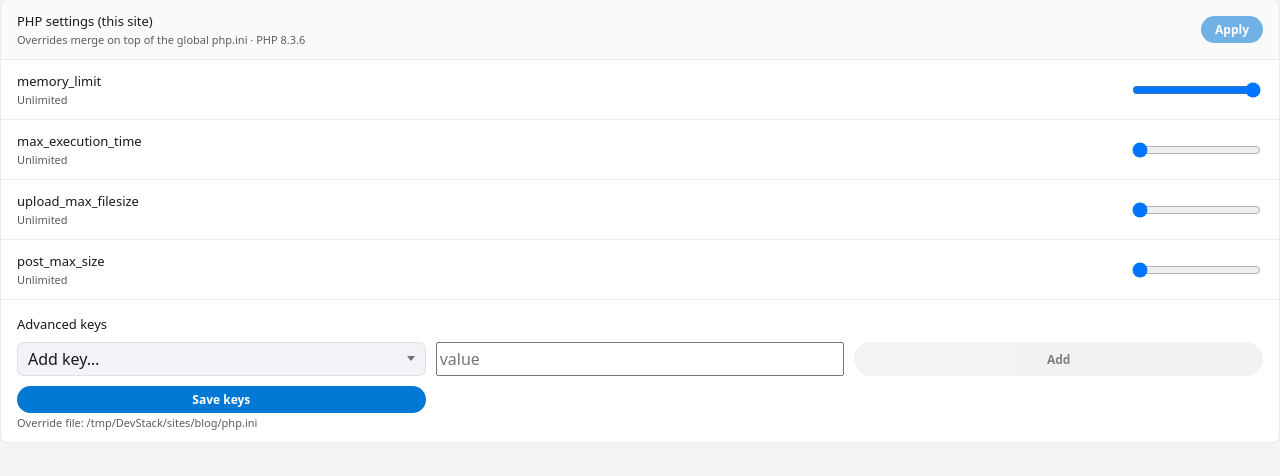
it: v0.3.0 UI › php.ini panel loads sliders and applies a change
The width and height of the screenshot is (1280, 476).
Check: the button "Apply" is disabled, box [1201, 16, 1263, 43]
Set the slider named "memory_limit" to "3": (1188, 90) [1132, 82, 1261, 98]
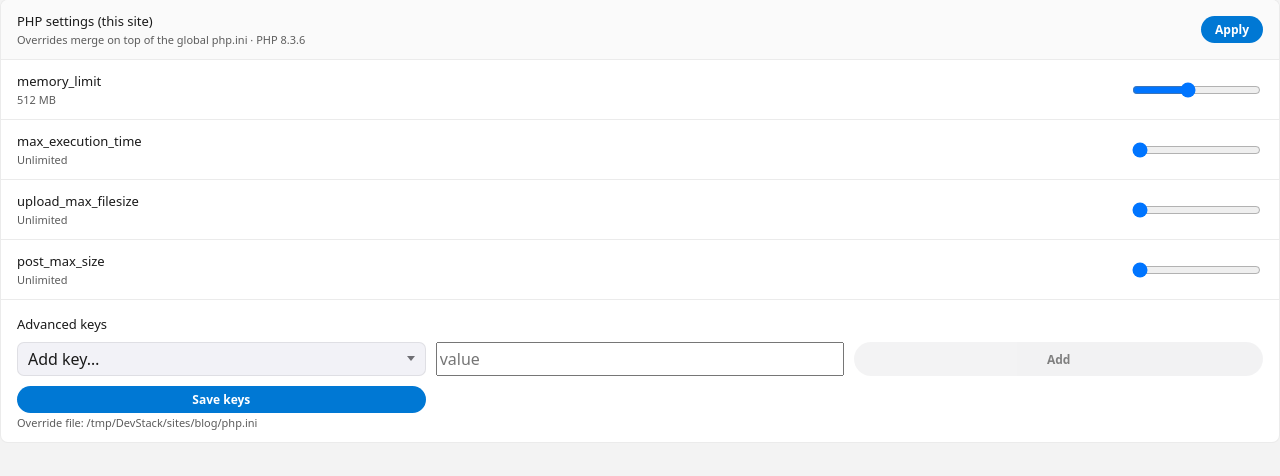
Check: the button "Apply" is enabled
Click the button "Apply": (1232, 30) [1201, 16, 1263, 43]
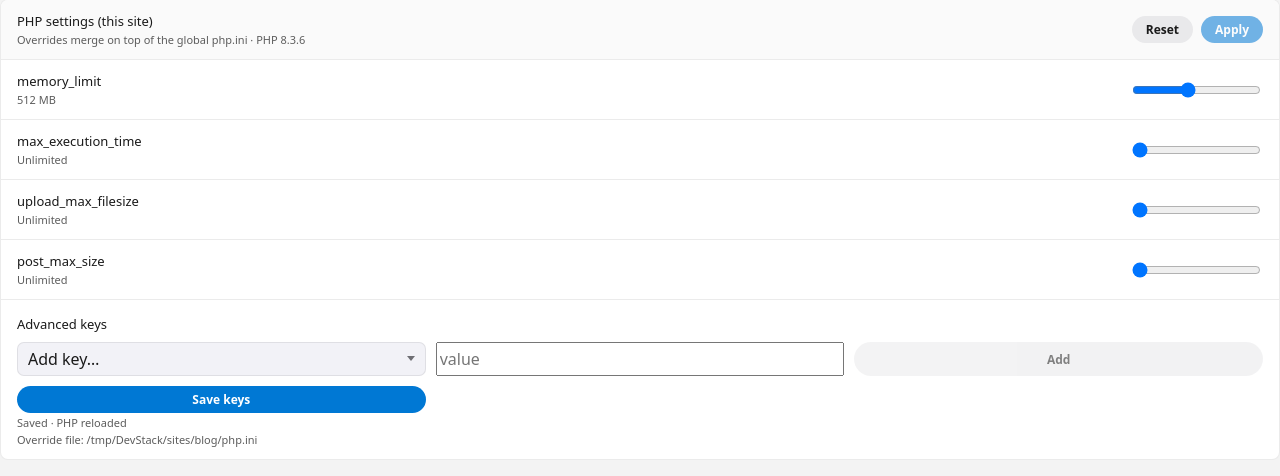
Check: the message shows "Saved", box [17, 415, 127, 430]
